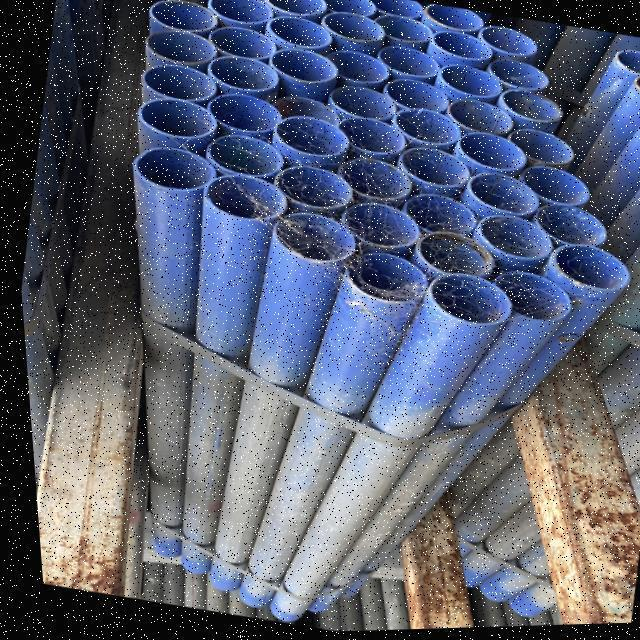pipe: (345, 249, 431, 305), (341, 154, 421, 208), (277, 212, 359, 264), (427, 275, 509, 327), (488, 274, 569, 326), (507, 163, 594, 210), (402, 144, 473, 200), (208, 174, 288, 223), (391, 196, 479, 240), (417, 230, 496, 279), (345, 204, 425, 252), (528, 201, 608, 249), (553, 248, 629, 297), (479, 216, 553, 266), (131, 147, 215, 191), (211, 133, 288, 181), (209, 96, 287, 143), (497, 126, 577, 171), (280, 167, 356, 214), (139, 98, 222, 141), (140, 61, 223, 104), (469, 176, 545, 221), (276, 117, 350, 162), (341, 119, 413, 165), (459, 134, 532, 179), (317, 52, 397, 91), (396, 111, 467, 153), (204, 27, 289, 62), (482, 53, 550, 96), (203, 56, 282, 93), (332, 86, 405, 126), (448, 101, 520, 141), (385, 82, 463, 117), (500, 89, 566, 130), (377, 44, 442, 85), (149, 23, 214, 62), (149, 0, 219, 36), (321, 14, 393, 49), (440, 67, 504, 106), (273, 50, 340, 87), (377, 11, 438, 48), (434, 33, 498, 67), (274, 15, 335, 50), (422, 5, 487, 37), (276, 98, 350, 126), (478, 27, 538, 61), (213, 0, 277, 27), (266, 0, 329, 19), (325, 0, 382, 21), (372, 0, 426, 20), (620, 54, 640, 79)
